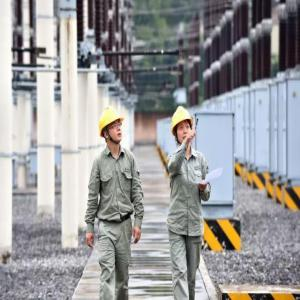yellow: (98, 105, 125, 145), (171, 105, 194, 147)
